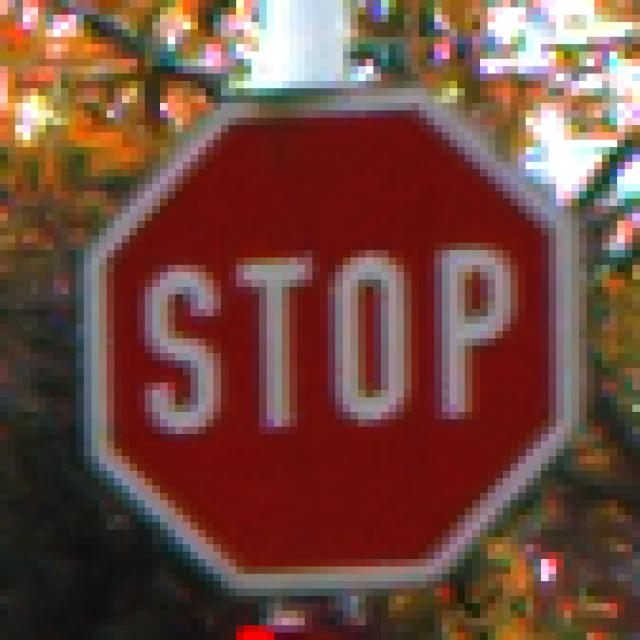STOP: (62, 60, 580, 589)
